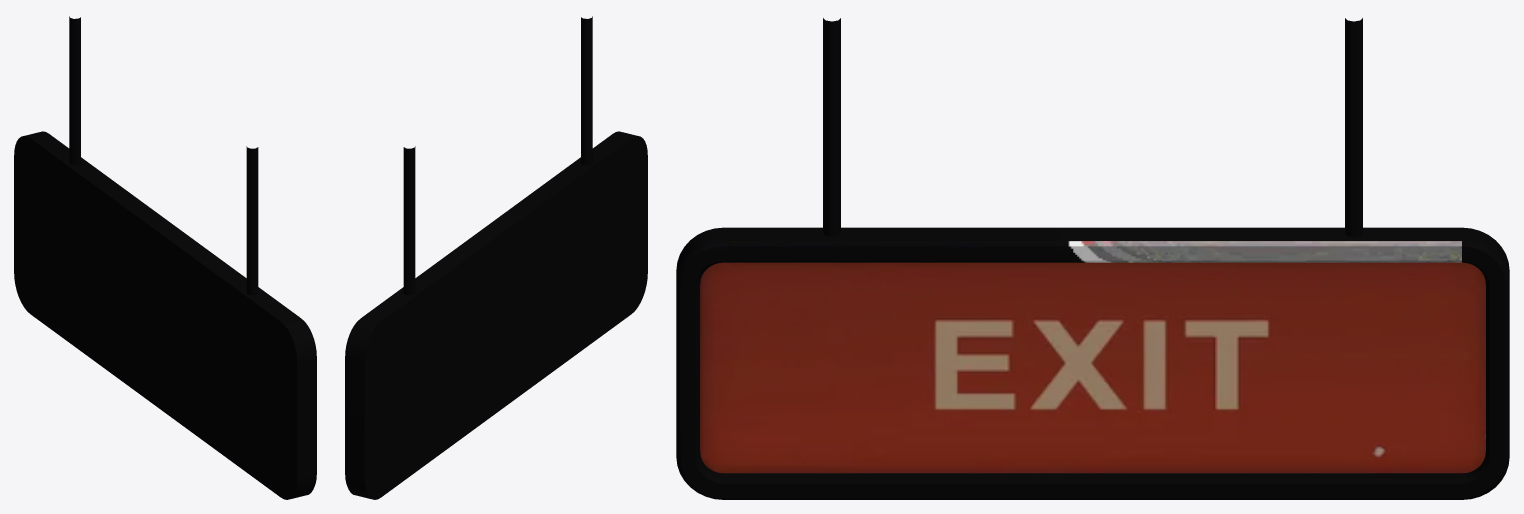
The picture shows the model from 3 angles, left to right: view 1: azimuth 30°, elevation 25°; view 2: azimuth 150°, elevation 25°; view 3: azimuth 270°, elevation 25°; orthographic projection. The views are drawn at different scales.
Parts seen in each view (by area): view 1: body0_model0_lod0_mesh0; view 2: body0_model0_lod0_mesh0; view 3: body0_model0_lod0_mesh0.
Part boxes in pixels (x1,y1,x2,y2): body0_model0_lod0_mesh0: [14, 16, 316, 499]; body0_model0_lod0_mesh0: [345, 16, 647, 499]; body0_model0_lod0_mesh0: [676, 18, 1509, 499].
Size of the model in its own units: 3 by 44 by 70.
1 material, 1 textured.
